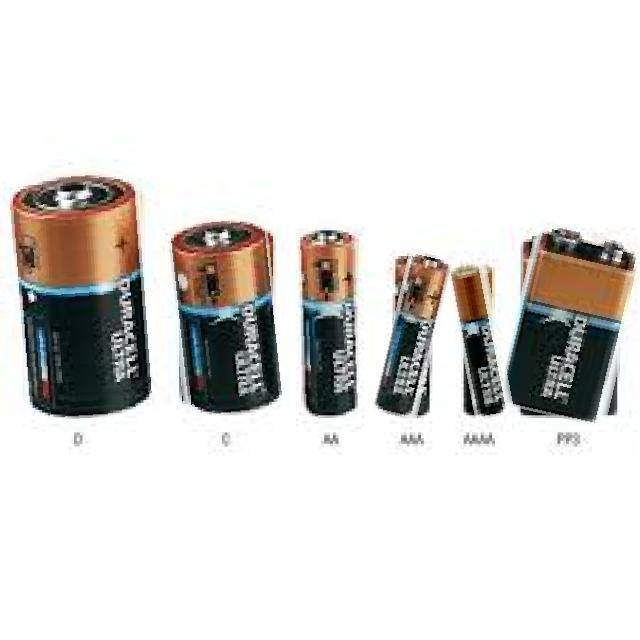Battery: (12, 156, 169, 427), (504, 216, 634, 437), (162, 216, 286, 419), (293, 220, 365, 423), (378, 238, 446, 435), (442, 262, 508, 418)
